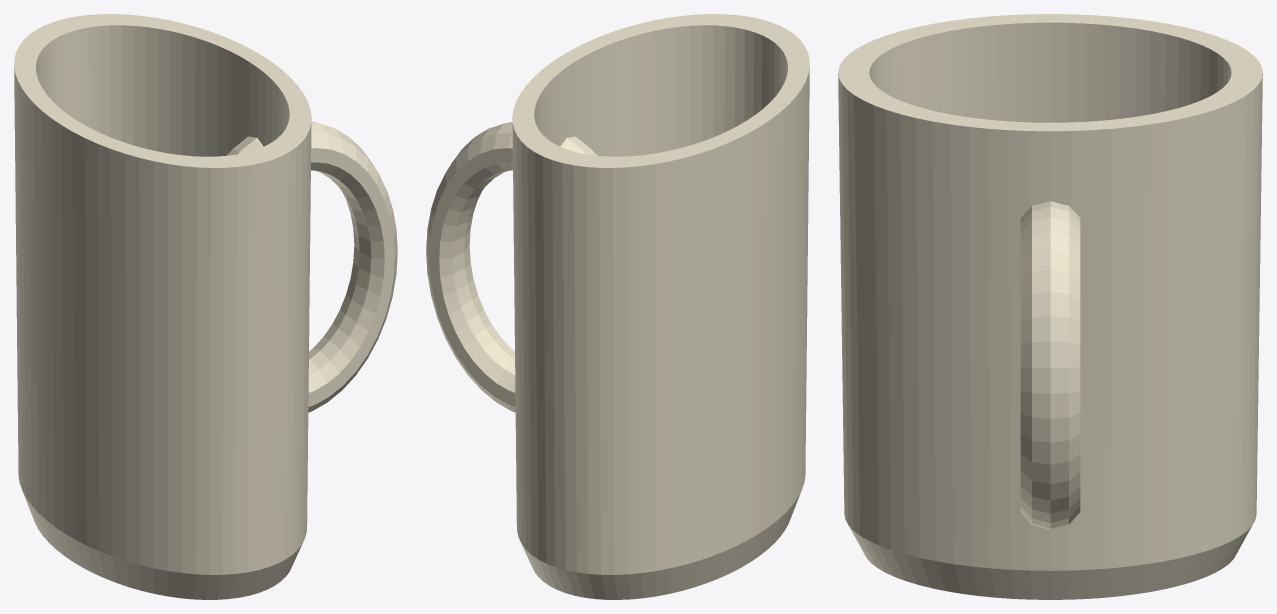
3 views of the same model, side by side, from view 1: azimuth 30°, elevation 25°; view 2: azimuth 150°, elevation 25°; view 3: azimuth 270°, elevation 25° (orthographic). The views are drawn at different scales.
Visible parts, largest first — view 1: Cup, Handle; view 2: Cup, Handle; view 3: Cup, Handle.
Part boxes in pixels (x1,y1,x2,y2): Cup: [14, 14, 311, 599]; Handle: [227, 122, 397, 412]; Cup: [512, 14, 809, 599]; Handle: [426, 122, 596, 412]; Cup: [838, 14, 1262, 599]; Handle: [1020, 201, 1080, 529].
Size of the model in its own units: 0.085 by 0.105 by 0.085.
